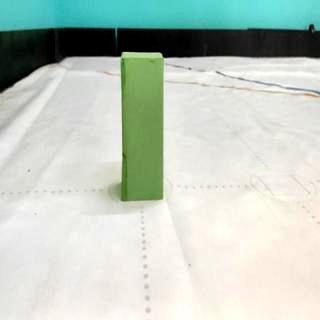greenbox: (119, 51, 164, 203)
